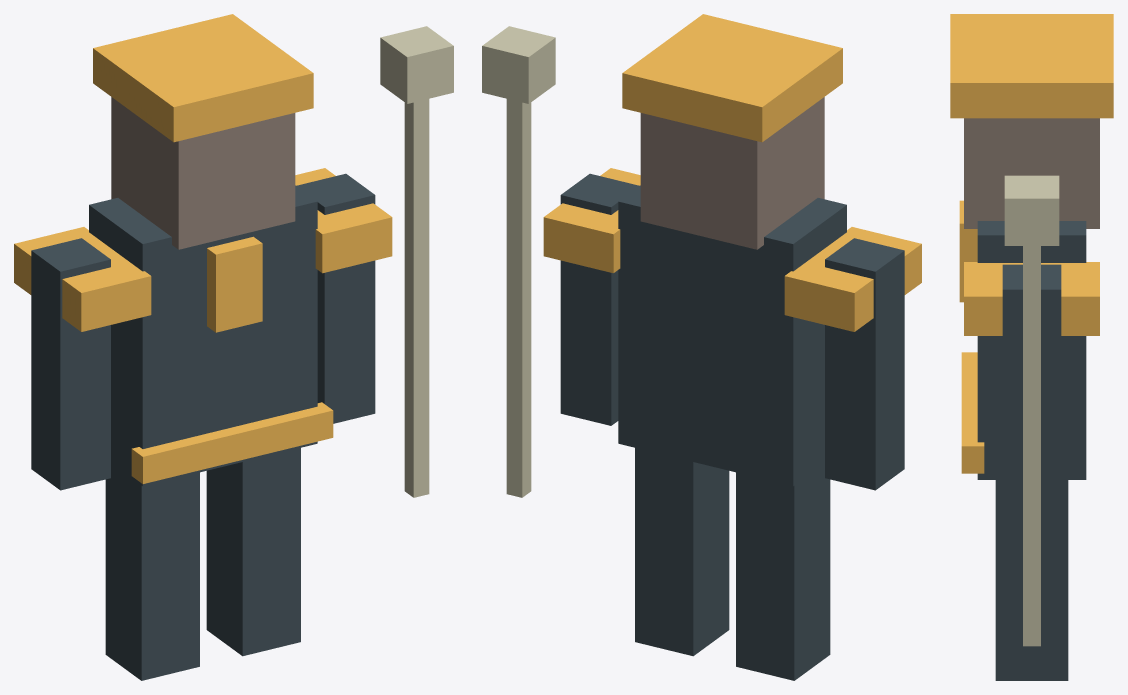
Rendered from 14_varren_cinderholt_medic_at_entry.glb.
3 views of the same model, side by side, from view 1: azimuth 30°, elevation 25°; view 2: azimuth 150°, elevation 25°; view 3: azimuth 270°, elevation 25° (orthographic).
Visible parts, largest first — view 1: Varren Cinderholt, Medic at Entry; view 2: Varren Cinderholt, Medic at Entry; view 3: Varren Cinderholt, Medic at Entry.
Boxes of the visible parts, x1,y1,x2,y2 form: Varren Cinderholt, Medic at Entry: (14,14,453,680); Varren Cinderholt, Medic at Entry: (482,14,921,680); Varren Cinderholt, Medic at Entry: (950,14,1113,680).
Size of the model in its own units: 1.06 by 1.51 by 0.3766.
